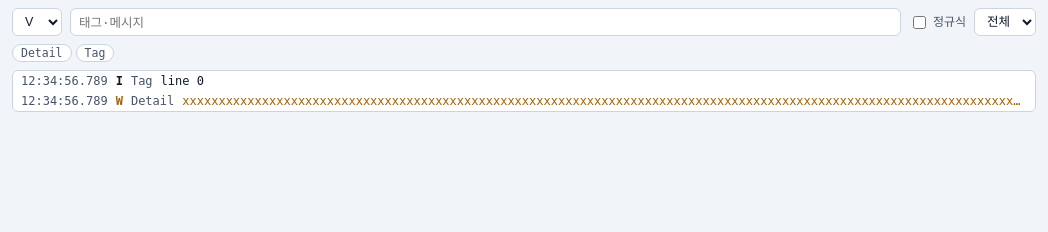
LogTab › shows the full message of the clicked row in the detail area
Click the 2nd button with class "log-row". click: {"x": 524, "y": 101}
box: [13, 91, 1035, 111]
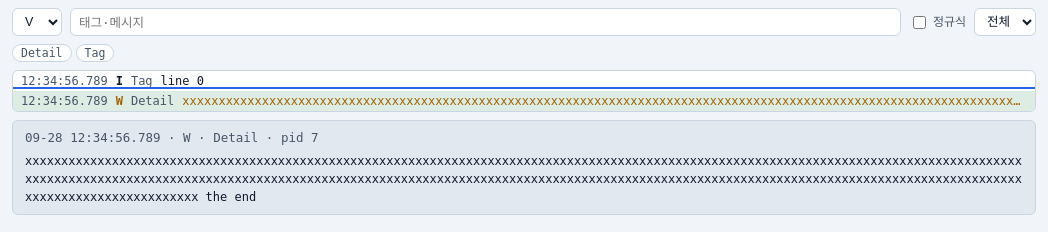
Expected: the element named "로그 상세" shows "Detail", [213, 130, 258, 145]
Expected: the element named "로그 상세" shows "pid 7", [12, 120, 1036, 215]
